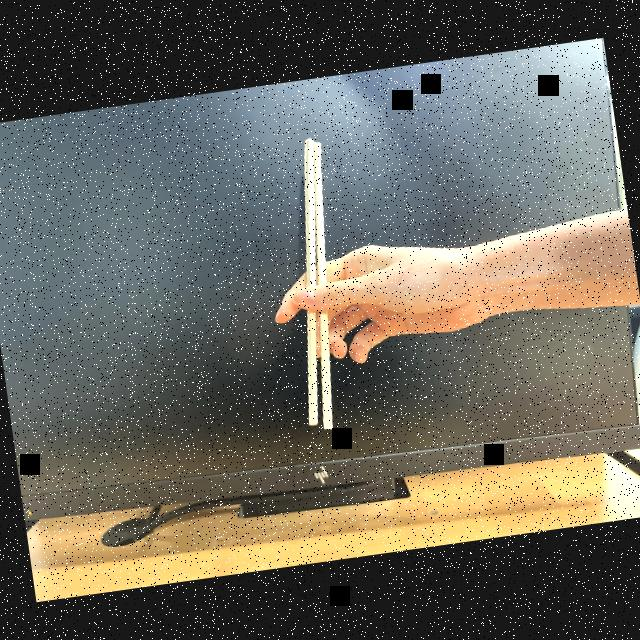stick: (268, 132, 410, 434)
